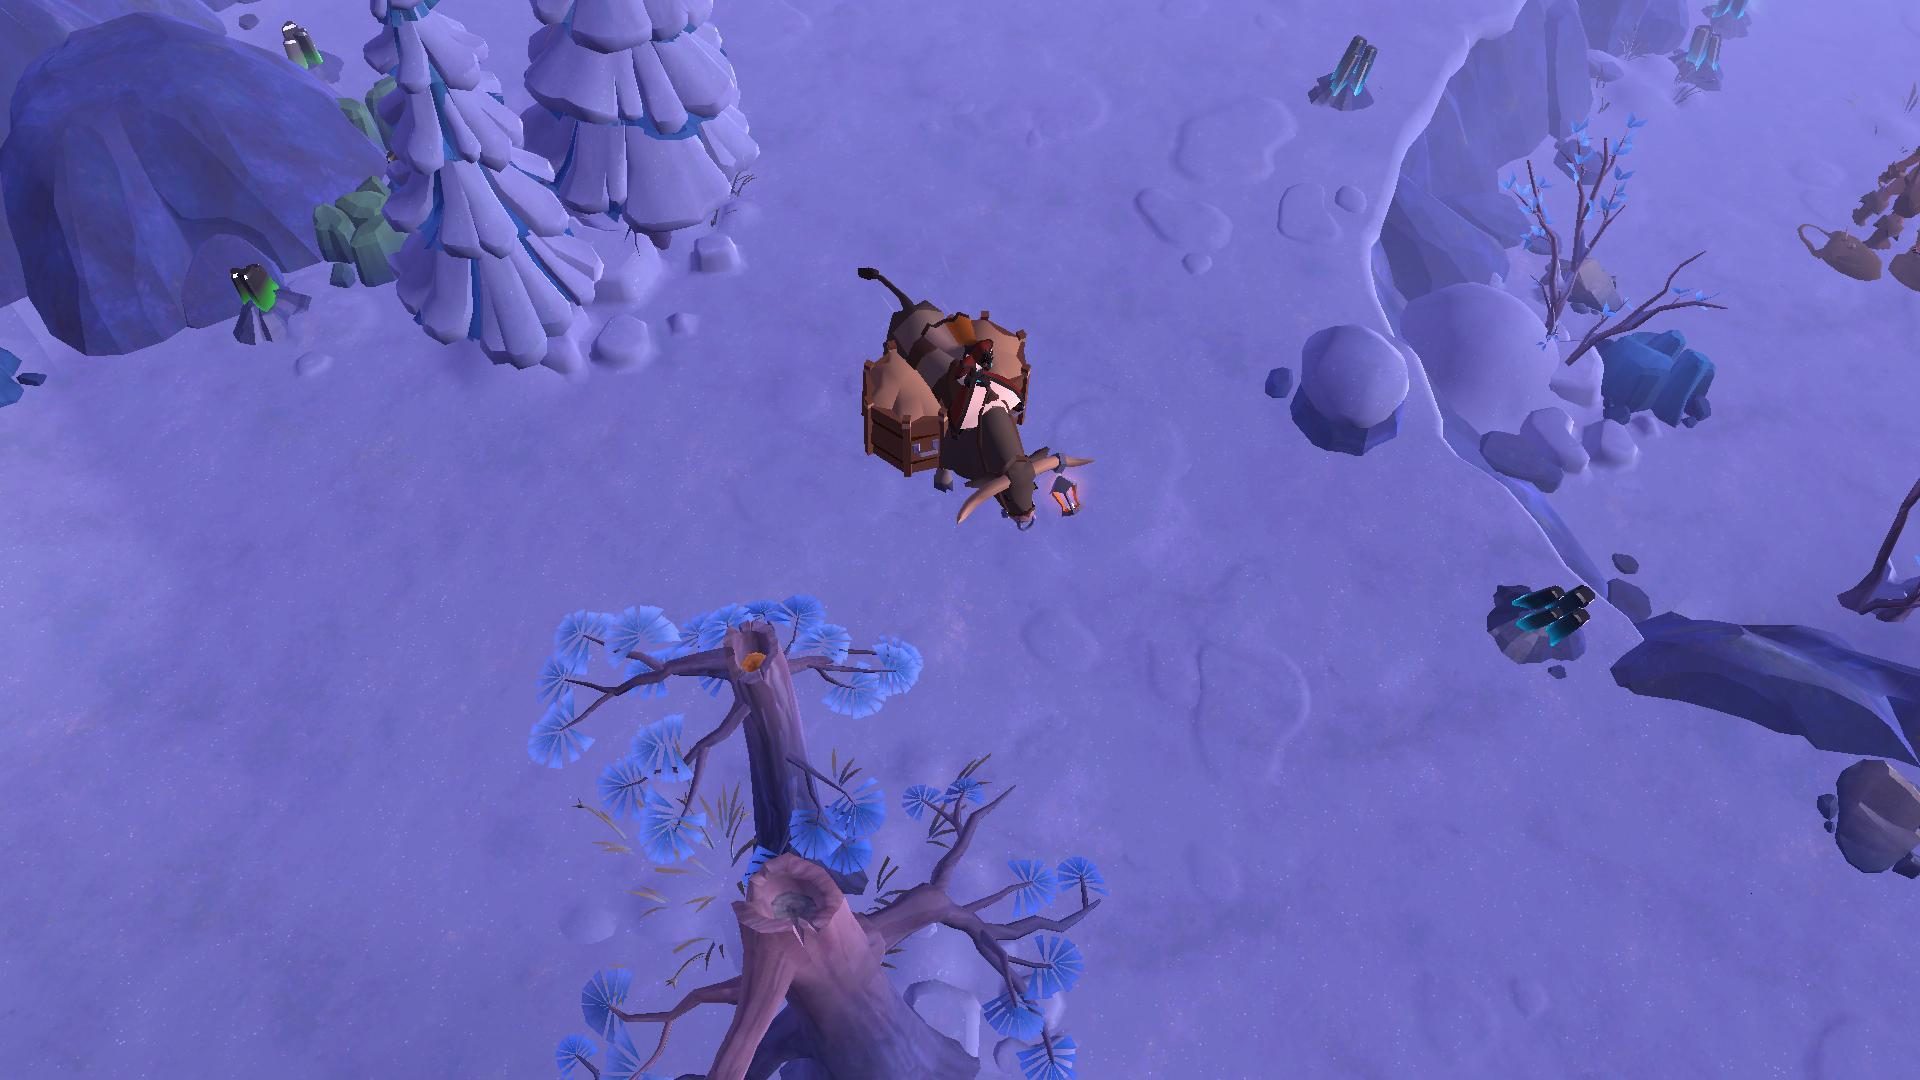ore_t3: (228, 258, 276, 324), (277, 17, 324, 80)
ore_t4: (1502, 568, 1597, 649), (1317, 34, 1383, 104), (1683, 21, 1720, 79), (1708, 0, 1762, 22)
rock_t3: (315, 170, 423, 287), (343, 65, 444, 158)
rock_t4: (1576, 320, 1722, 421)
